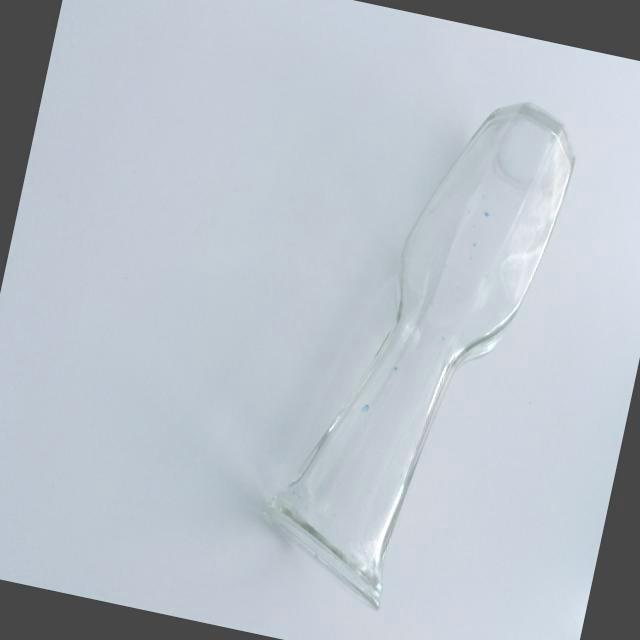glass: (247, 59, 595, 640)
